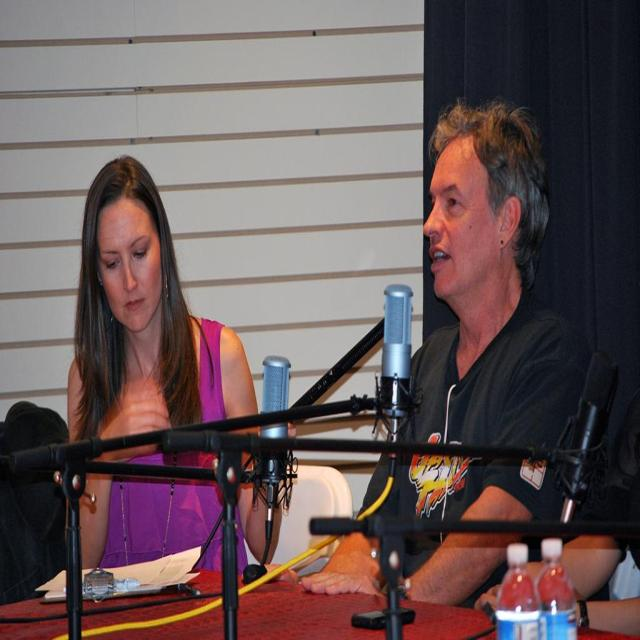Face: (426, 150, 485, 304), (90, 209, 167, 324)
